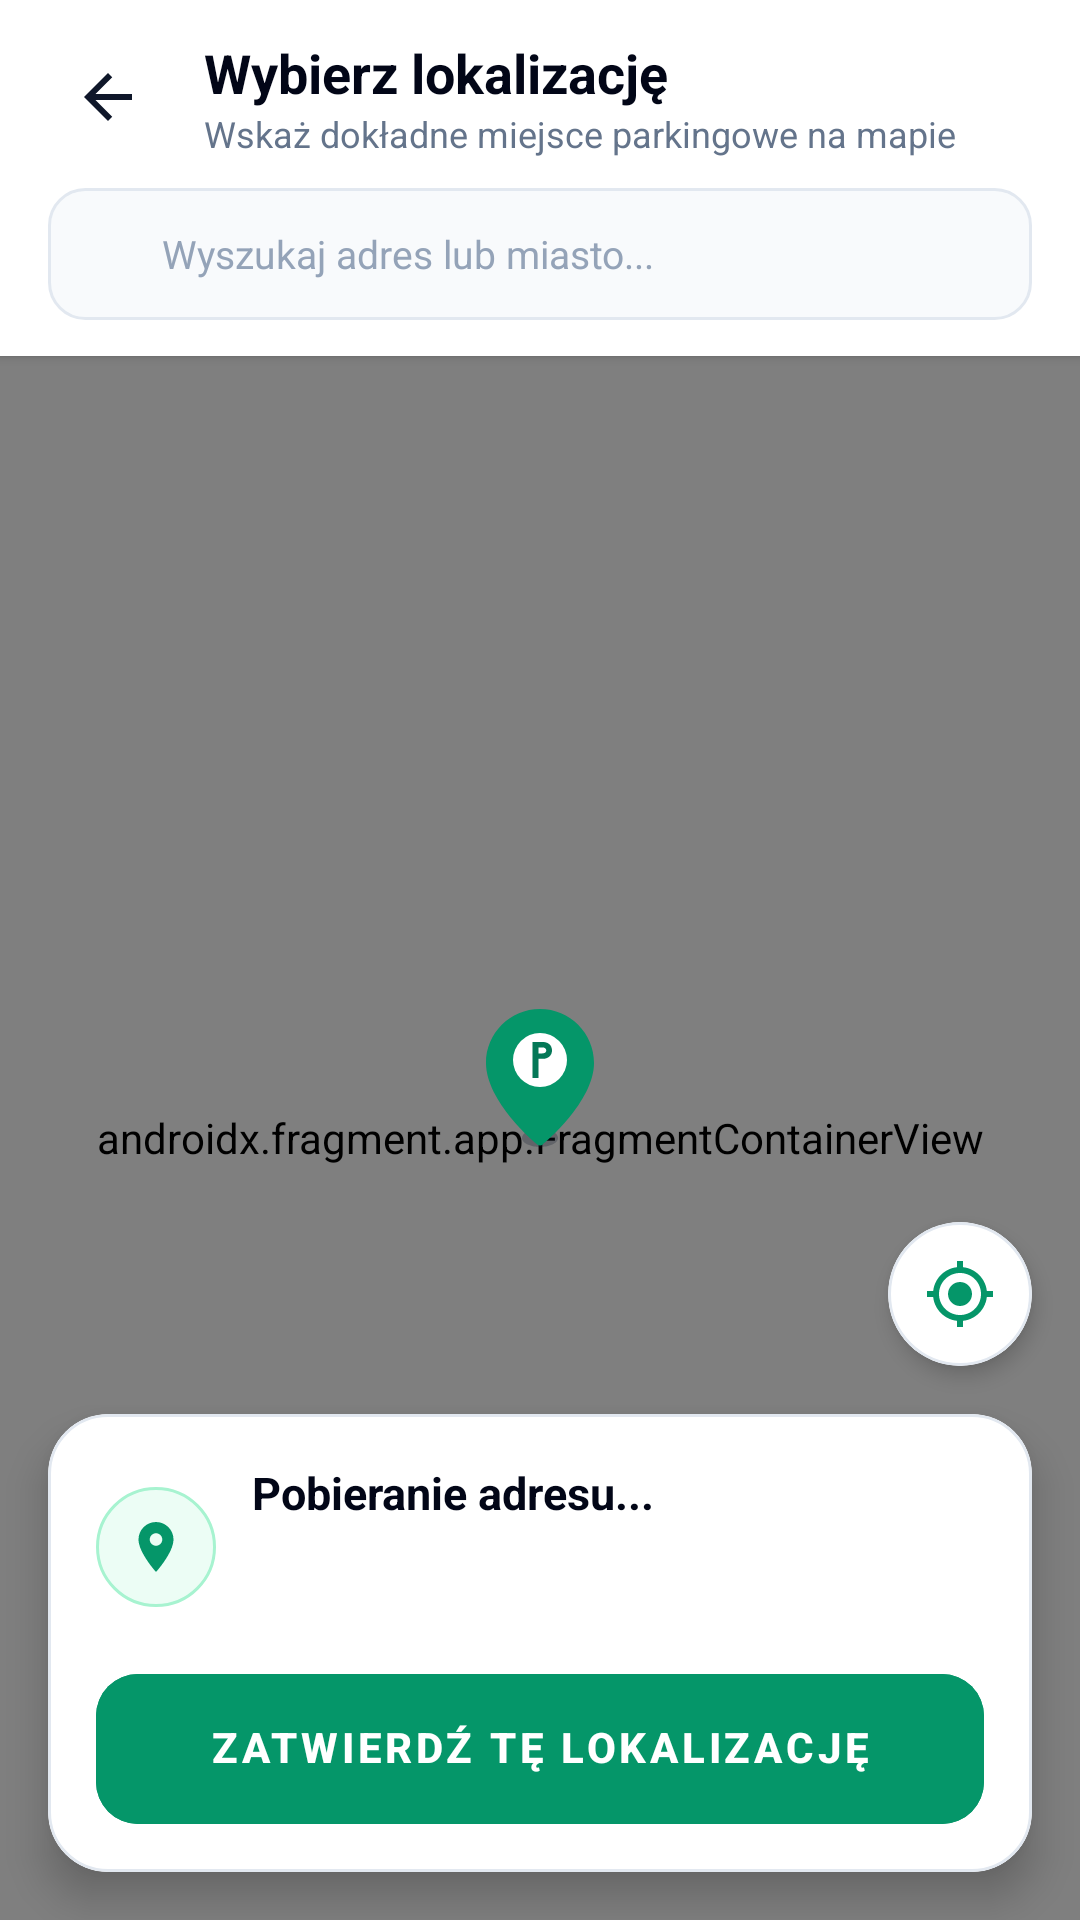

Icon click points for this 1080px x 1920px phone screenshot, format [x,y]:
Wróć: [108,97]
Wycentruj mapę: [960,1294]
